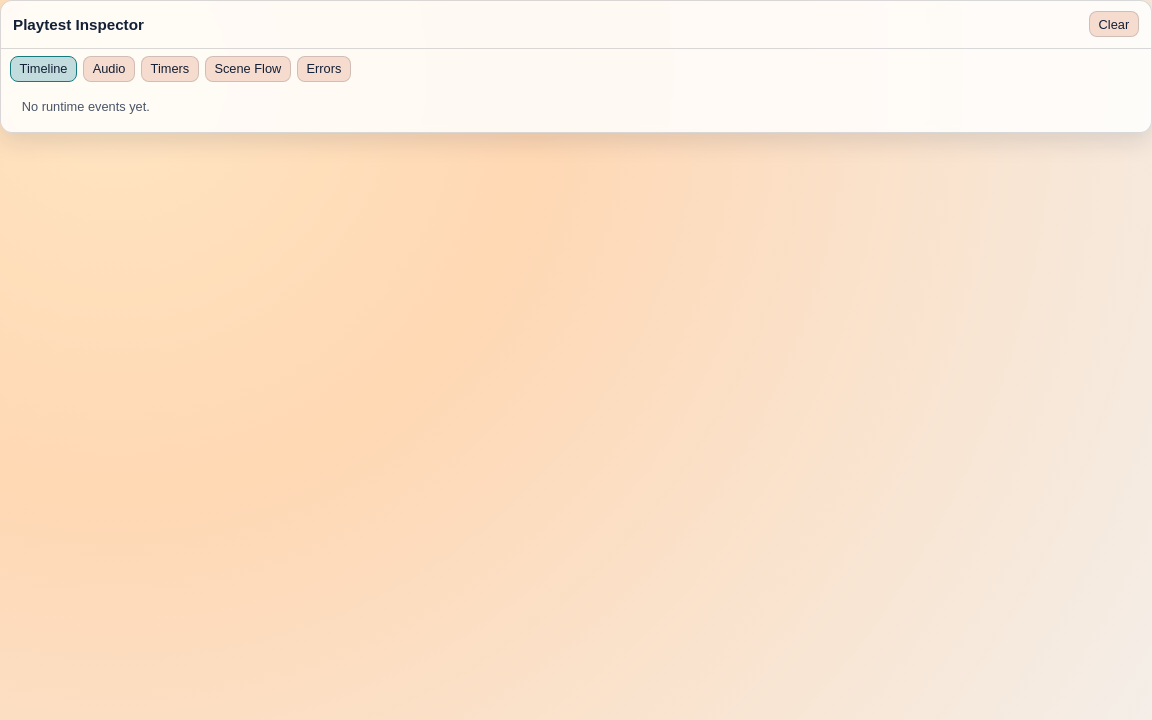
PlaytestInspectorPanel › shows an empty state when there are no runtime errors
The width and height of the screenshot is (1152, 720).
Click the button "Errors": (324, 69) top-left (297, 56), bottom-right (351, 82)
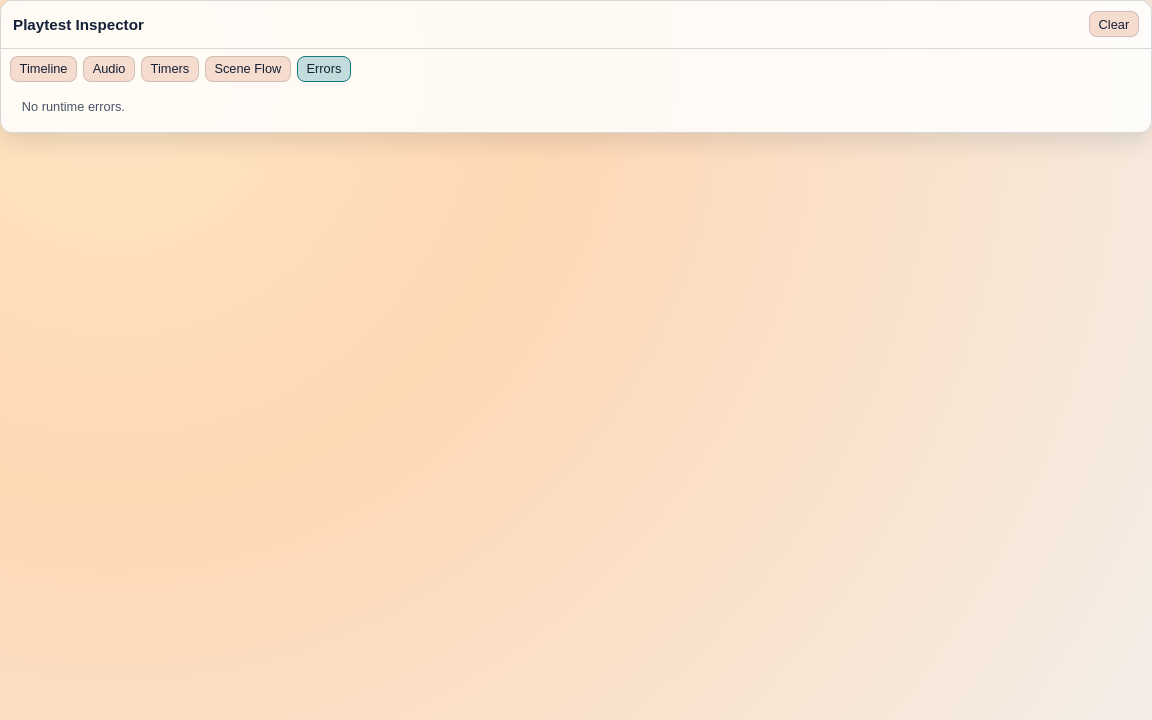
Expected: the text "No runtime errors." is shown, top-left (22, 99), bottom-right (125, 114)
